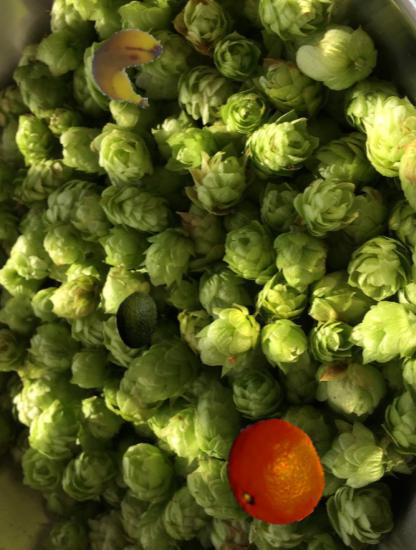Avocado: (107, 291, 165, 349)
Banana: (92, 28, 172, 108)
Clementine: (217, 414, 331, 528)
